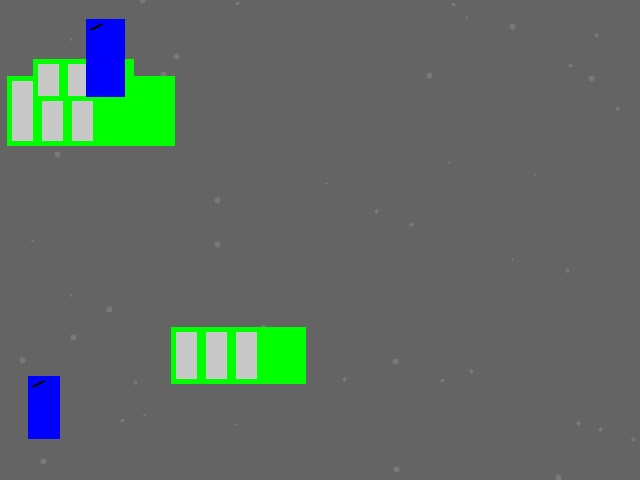bus: (7, 76, 174, 145), (171, 327, 305, 383), (33, 59, 133, 100)
motorcycle: (86, 19, 124, 96), (28, 376, 59, 438)
